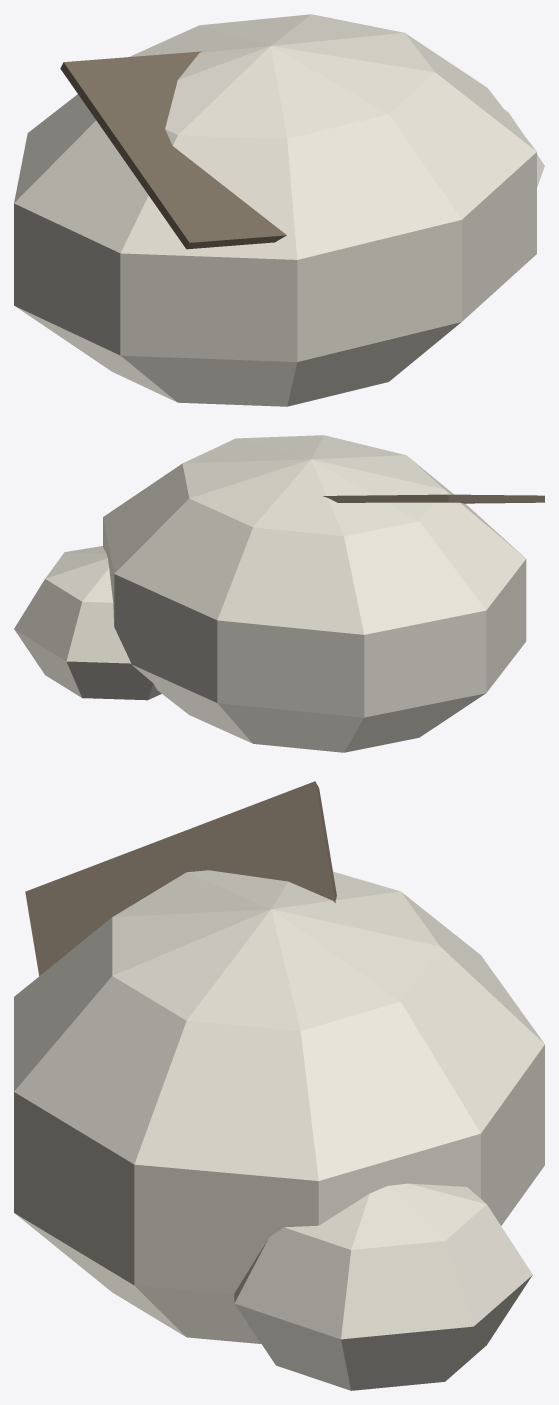
File: salt_pile.glb
3 renders of one model, top to bottom at view 1: azimuth 30°, elevation 25°; view 2: azimuth 150°, elevation 25°; view 3: azimuth 270°, elevation 25°, orthographic. The views are drawn at different scales.
Parts seen in each view (by area): view 1: salt_pile; view 2: salt_pile; view 3: salt_pile.
Boxes of the visible parts, bbox=[...] form: salt_pile: bbox=[14, 14, 544, 406]; salt_pile: bbox=[14, 435, 544, 752]; salt_pile: bbox=[14, 781, 544, 1390].
Size of the model in its own units: 2.82 by 1.73 by 2.03.
